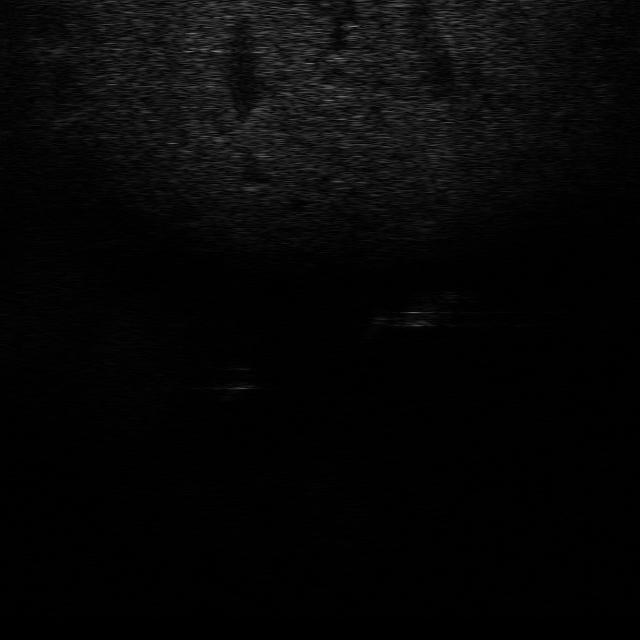ball: (208, 359, 266, 396)
human body: (367, 286, 468, 341)
